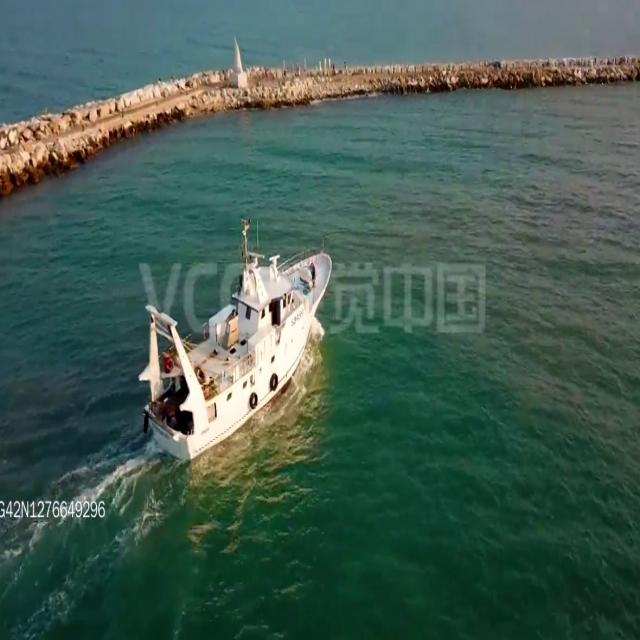houseboat: (136, 239, 334, 457)
